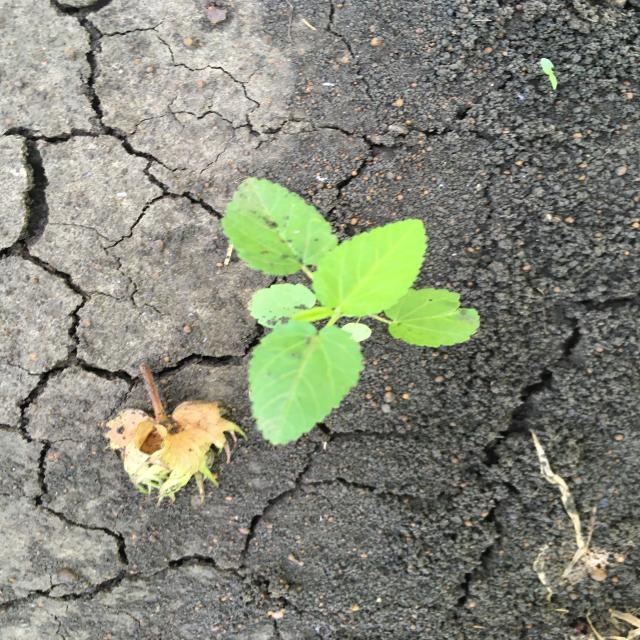PricklySida: (220, 176, 482, 448)
